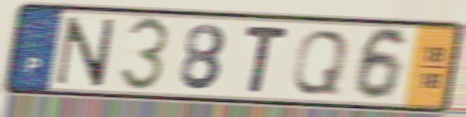3: (116, 15, 172, 95)
6: (348, 24, 413, 106)
8: (179, 22, 229, 92)
N: (51, 15, 119, 89)
Q: (288, 27, 353, 97)
T: (242, 22, 292, 96)
